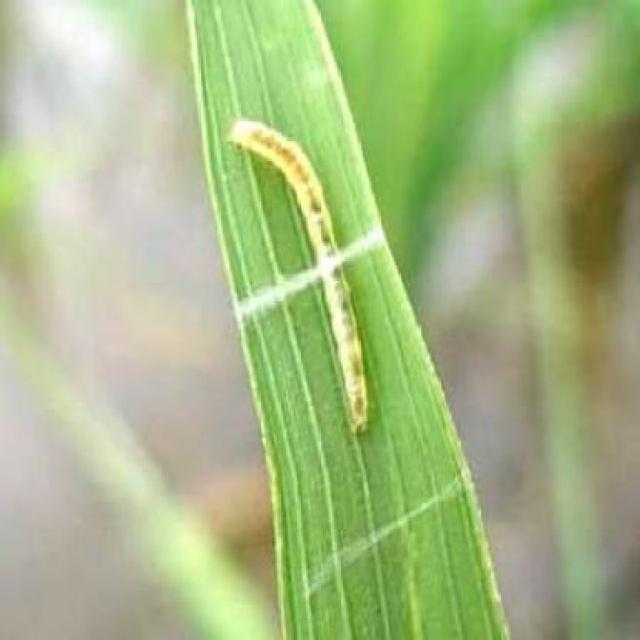leaf-folder: (227, 87, 375, 444)
